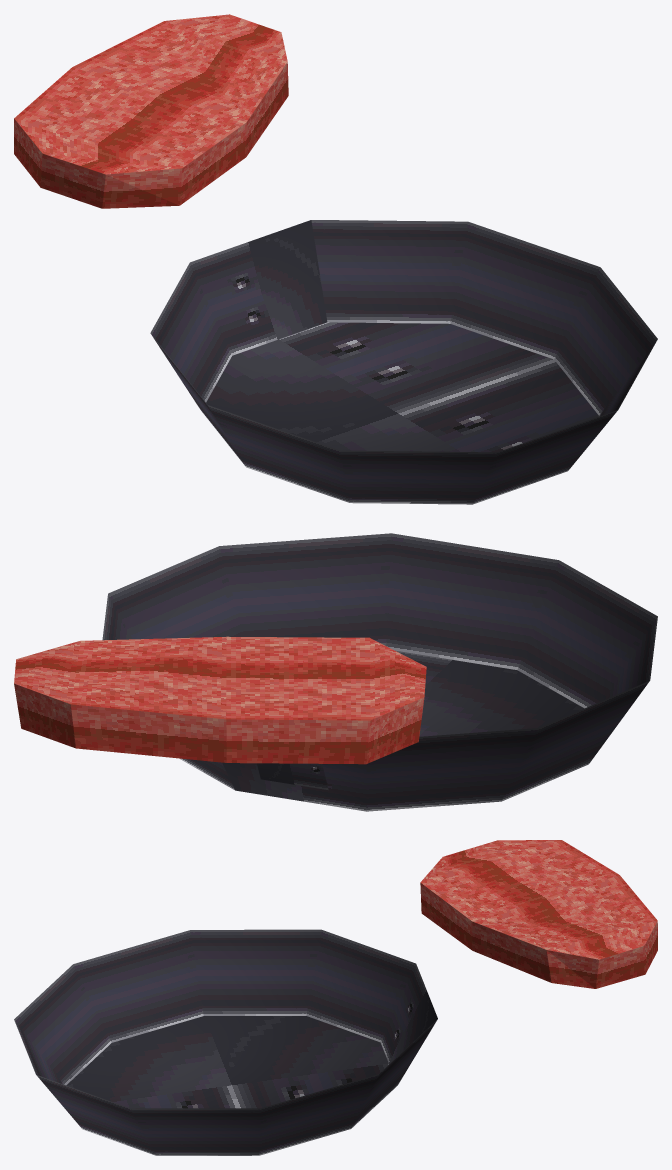
The picture shows the model from 3 angles, top to bottom: view 1: azimuth 30°, elevation 25°; view 2: azimuth 150°, elevation 25°; view 3: azimuth 270°, elevation 25°; orthographic projection. The views are drawn at different scales.
Visible parts, largest first — view 1: 1054item525; view 2: 1054item525; view 3: 1054item525.
Part boxes in pixels (left/top/right/bottom): 1054item525: left=14, top=14, right=657, bottom=504; 1054item525: left=14, top=533, right=657, bottom=811; 1054item525: left=14, top=840, right=657, bottom=1155.
Size of what is drawn, in the model's own units: 0.8321 by 0.396 by 1.26.
Materials: 2 (2 with a texture image).
